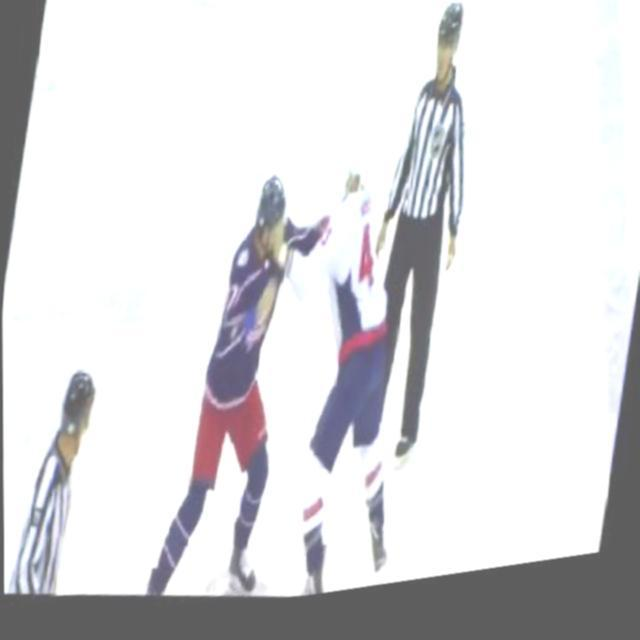fight: (163, 124, 433, 621)
